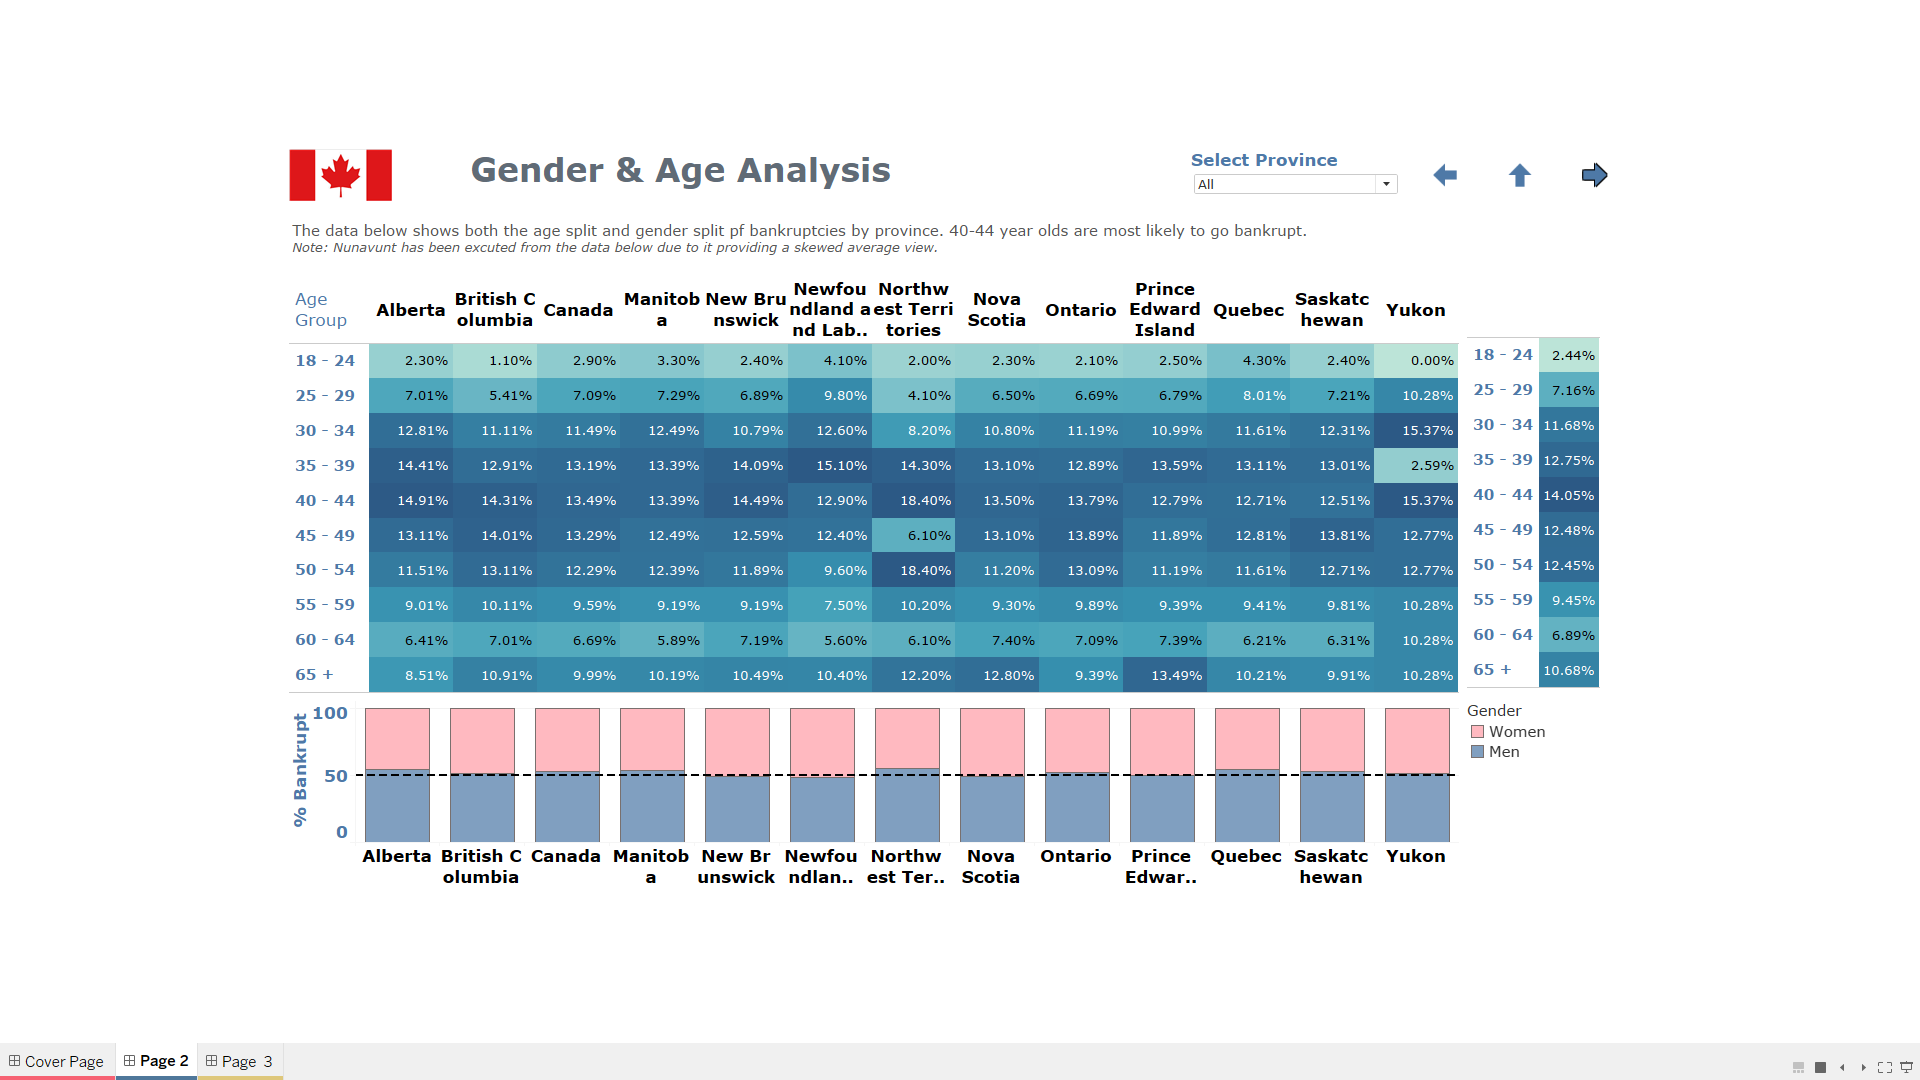

This screenshot's page, from the dashboard's own definition file:
{"tool":"tableau","page":{"name":"Page 2","canvas":[1366,768],"ordinal":2},"visuals":[{"type":"image","param":"Image/Canada.jpg","box":[8,8,178.3,60.4]},{"type":"title","box":[186.3,8,600.9,49]},{"type":"blank","box":[787.2,8,122.8,60.4]},{"type":"parameter","param":"[Parameters].[Parámetro 1]","box":[910,8,218,60.4]},{"type":"worksheet","title":"Left","mark":"Shape","rows":["Page desc"],"box":[1128,8,80,60.4]},{"type":"worksheet","title":"home","mark":"Shape","rows":["Page desc"],"box":[1208,8,70,60.4]},{"type":"worksheet","title":"Right","mark":"Shape","rows":["Page desc"],"box":[1278,8,80,60.4]},{"type":"text","box":[8,68.4,1350,65.6]},{"type":"worksheet","title":"Age Group Highlight","mark":"Square","rows":["Age Group"],"cols":["Province"],"box":[8,134,1178,426.5]},{"type":"blank","box":[1186,134,172,47]},{"type":"worksheet","title":"Age Group Highlight total","mark":"Square","rows":["Age Group"],"box":[1186,181,172,379.5]},{"type":"worksheet","title":"Gender %","mark":"Automatic","rows":["Distribution of Insolvency Files (%)"],"cols":["Province"],"box":[8,560.5,1178,199.5]},{"type":"legend","title":"Gender %","param":"[federated.0elt36o16dld8s1gm2k2v15t069p].[none:Gender:nk]","box":[1186,560.5,172,199.5]}]}

Visuals, with their boxes on the page's 1366x768 design canvas (x1, y1, x2, y2). These are canvas units, not pixel positions in the 1920x1080 screenshot, which may show the page scaled, cropped or inside an application window:
image: bbox=(8, 8, 186, 68)
title: bbox=(186, 8, 787, 57)
blank: bbox=(787, 8, 910, 68)
parameter: bbox=(910, 8, 1128, 68)
"Left" worksheet (Shape marks): bbox=(1128, 8, 1208, 68)
"home" worksheet (Shape marks): bbox=(1208, 8, 1278, 68)
"Right" worksheet (Shape marks): bbox=(1278, 8, 1358, 68)
text: bbox=(8, 68, 1358, 134)
"Age Group Highlight" worksheet (Square marks): bbox=(8, 134, 1186, 560)
blank: bbox=(1186, 134, 1358, 181)
"Age Group Highlight total" worksheet (Square marks): bbox=(1186, 181, 1358, 560)
"Gender %" worksheet: bbox=(8, 560, 1186, 760)
"Gender %" legend: bbox=(1186, 560, 1358, 760)
